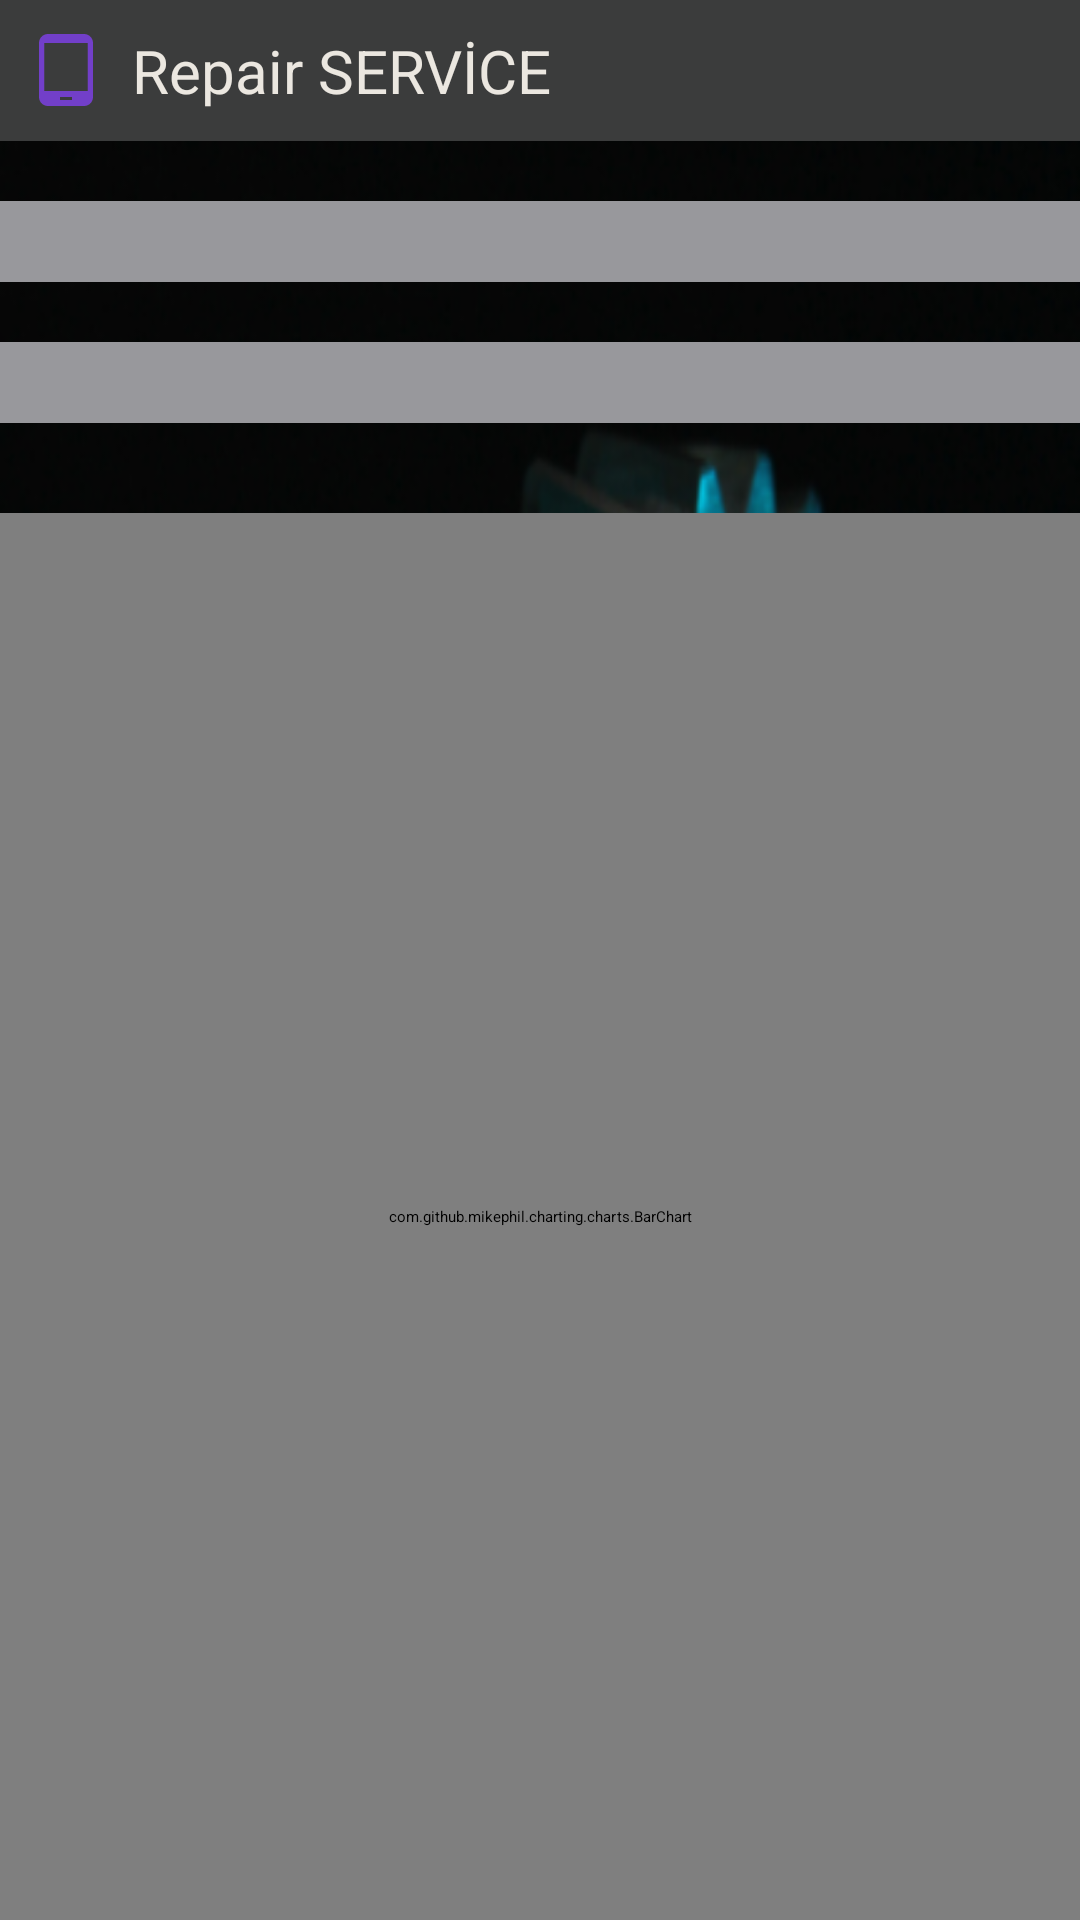

Where to tap for icons on this 1080px x 1920px app screen, as [x,y]:
tablet android: [66,70]
